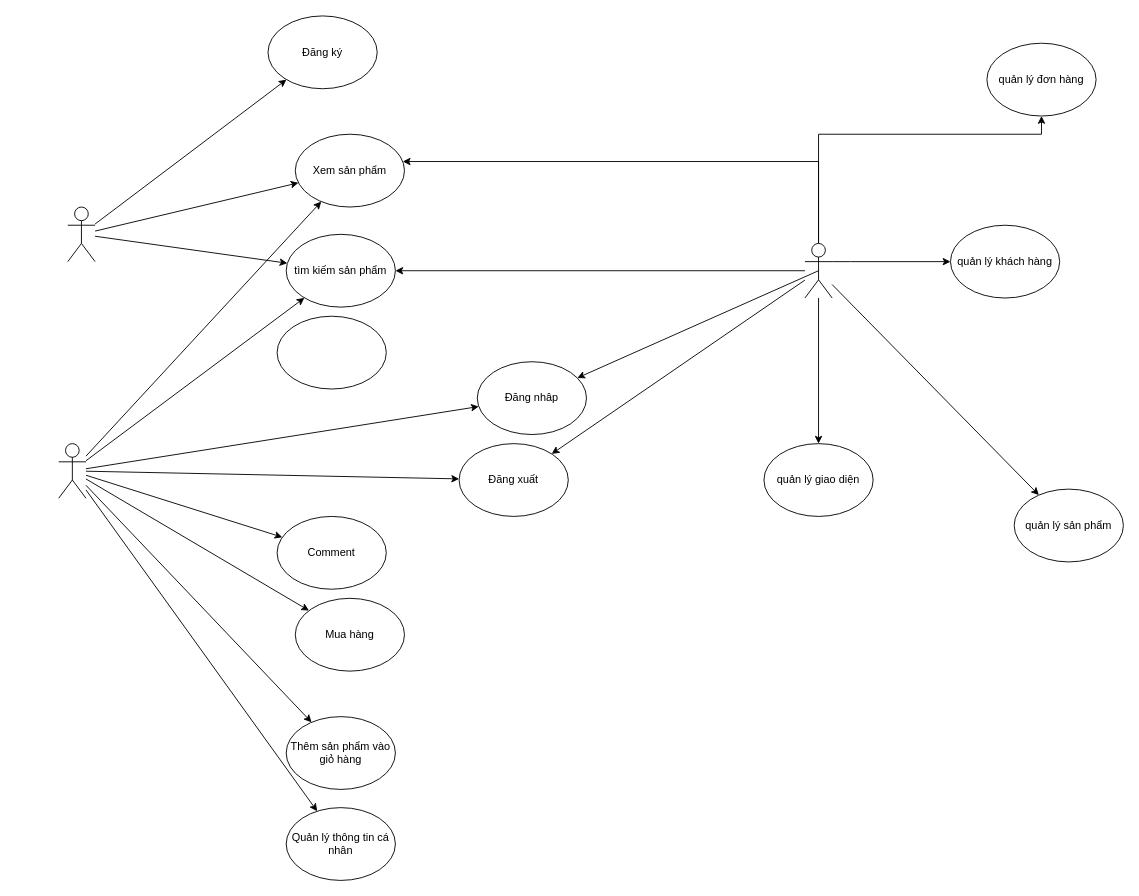
Image size: 1139x896. Some labels were removed from this diagram. The box of each missing label's shape, as (x1, y1, x2, y2) in pixels:
admin: (804, 243, 832, 298)
khách hàng đã đăng ký: (58, 443, 86, 498)
khãch vãn lai: (67, 206, 95, 262)
Xem thông tin trang web: (276, 315, 386, 389)
